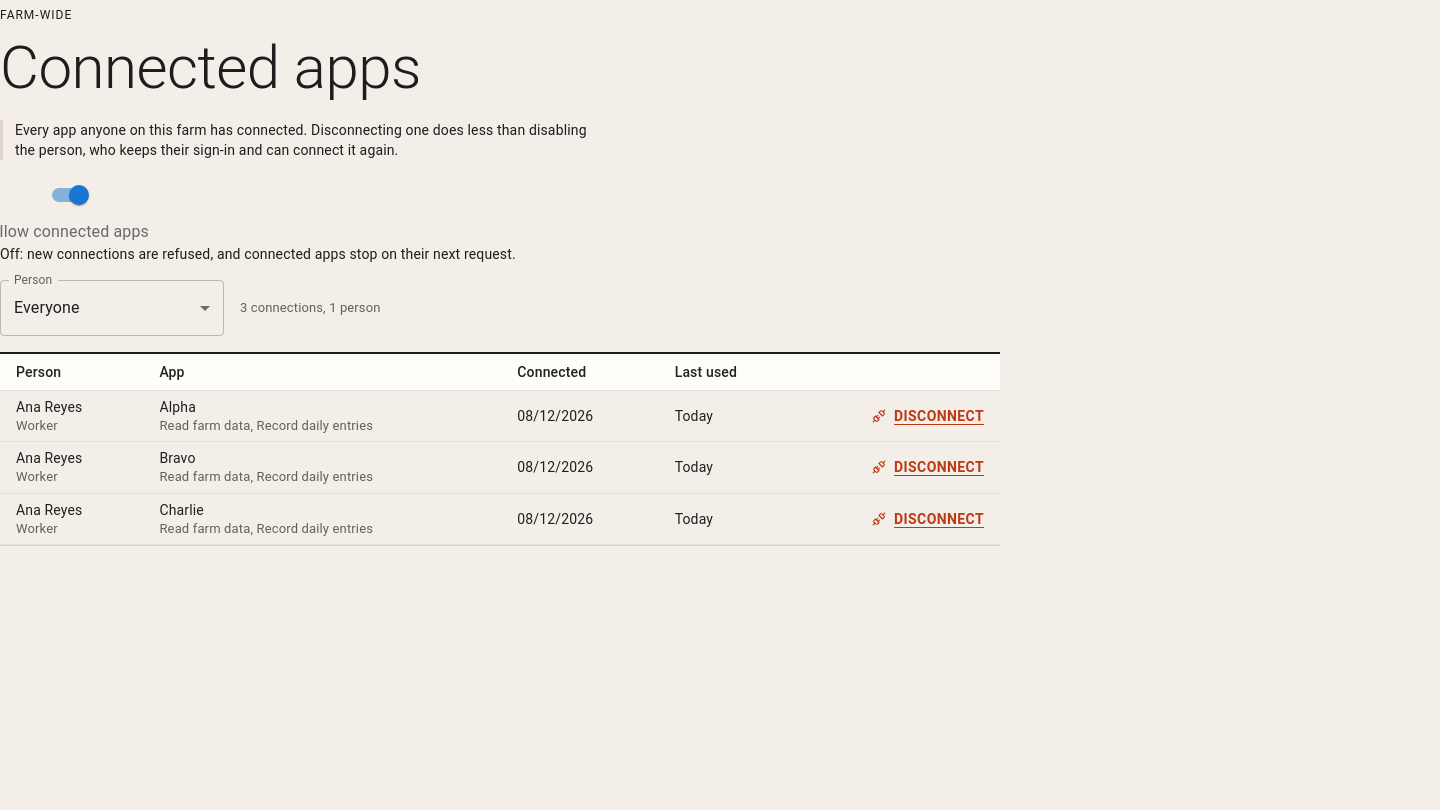
Test case: Connected apps keeps keyboard focus after Disconnect (#799) › Owner page: a middle connection gone, focus moves to the next one's Disconnect
Click the button with aria-label "Disconnect Bravo for Ana Reyes" at [930, 467], box [876, 449, 984, 486]
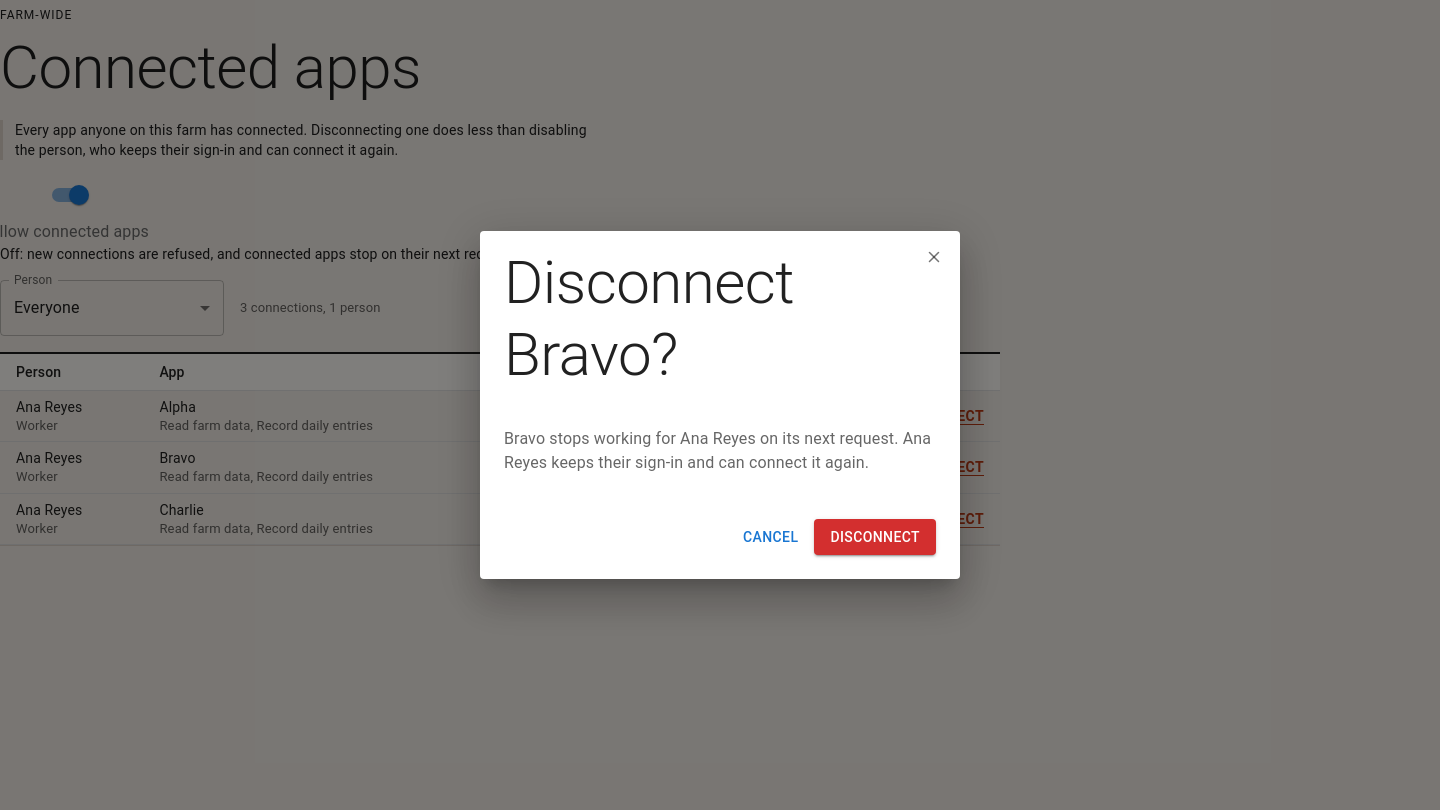
Click the button "Disconnect" at [875, 537], box [814, 519, 936, 555]
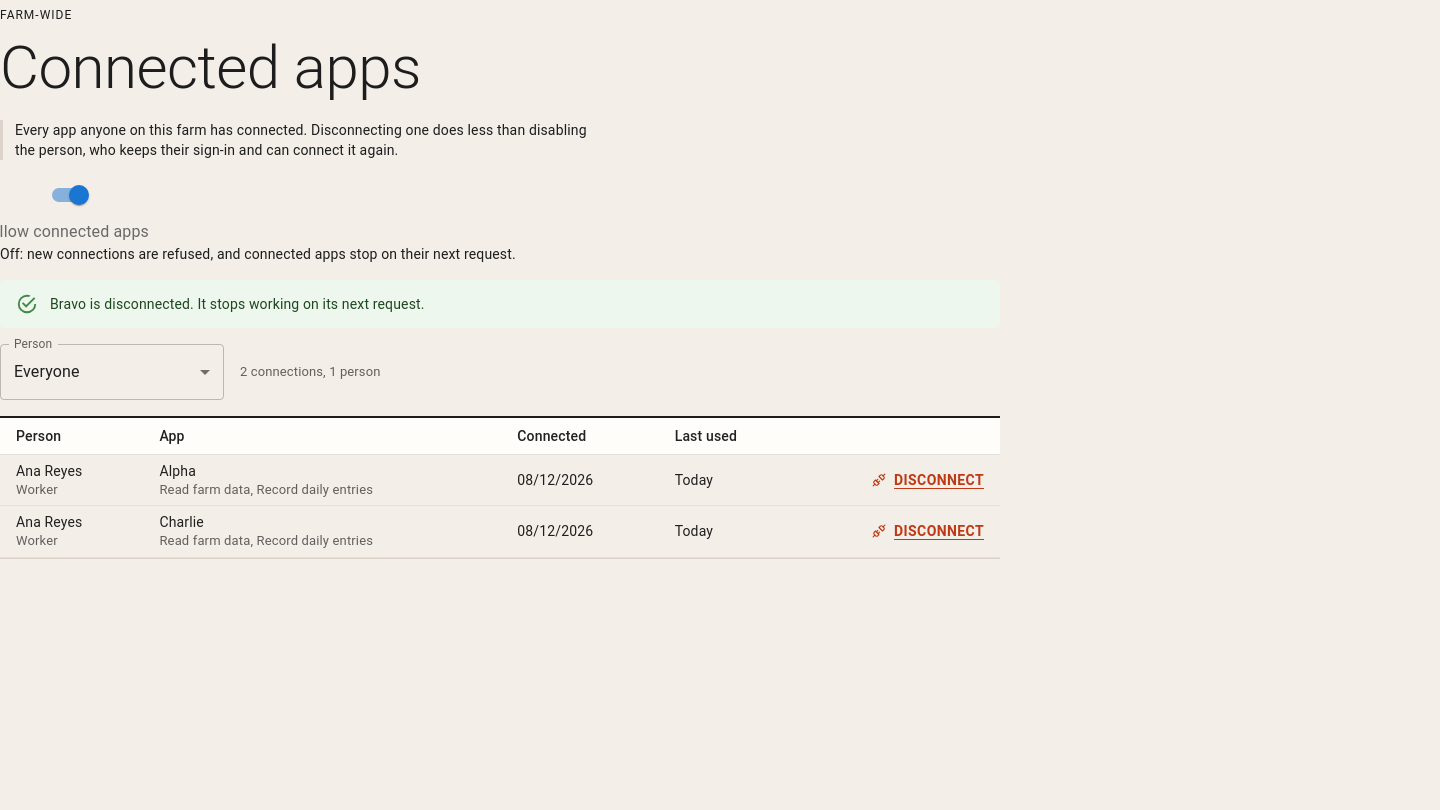
Now the dialog is gone
